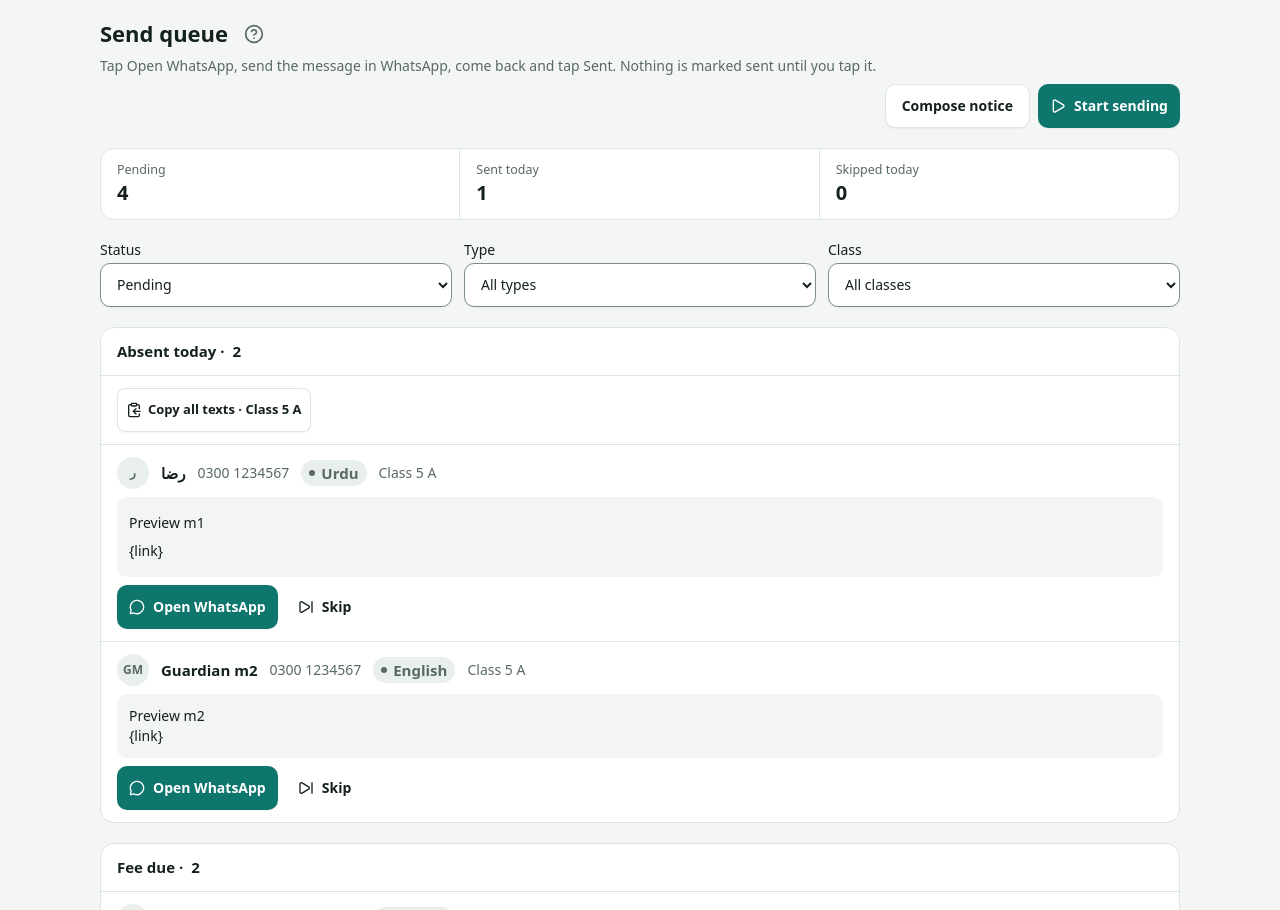
Test: send queue › a blocked popup leaves a link to tap
Expected: the heading "Absent today · 2" is shown, [117, 341, 241, 361]
Click the button with id "msg-primary-m1" at (197, 607), box [117, 585, 278, 629]
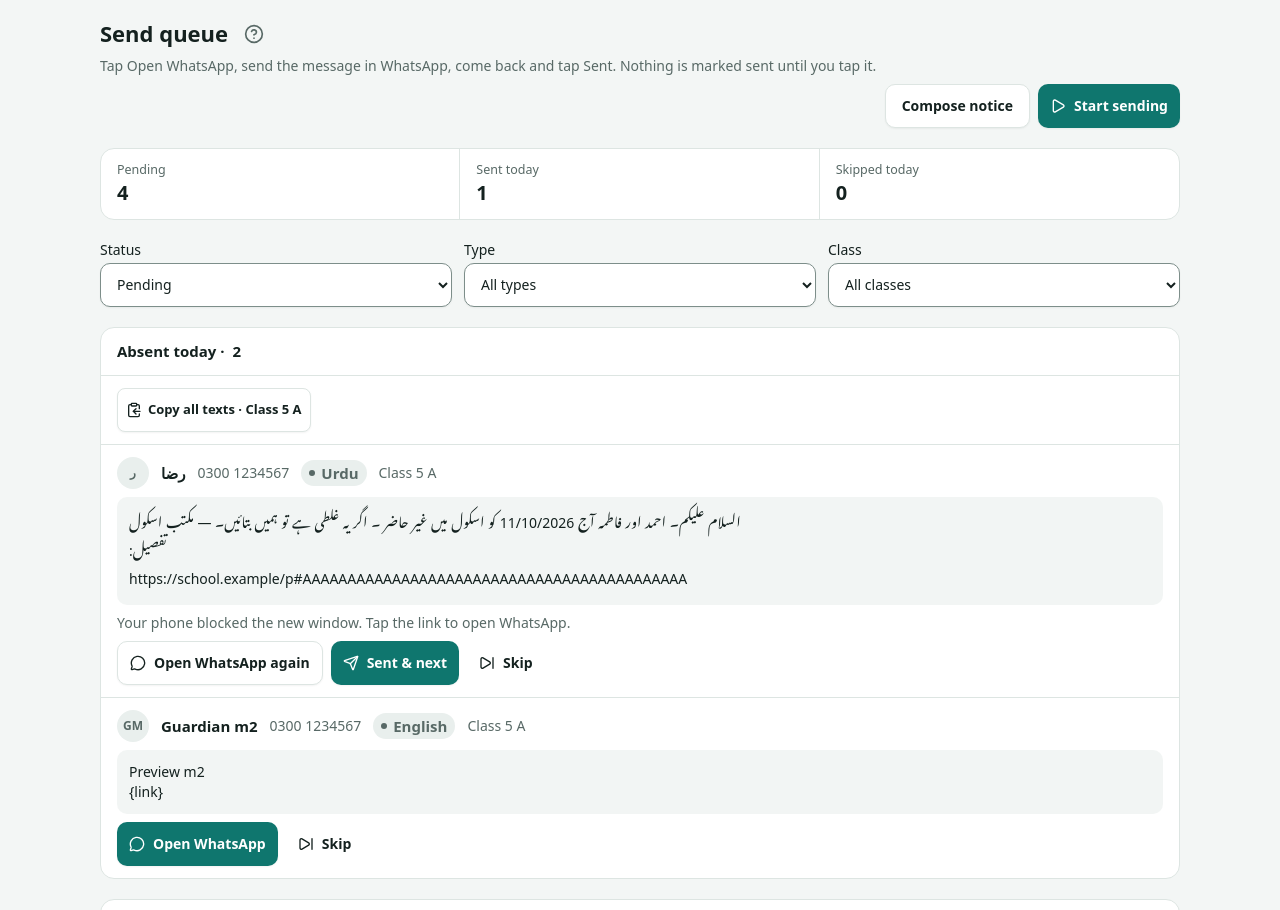
Now the text "Your phone blocked the new window. Tap the link to open WhatsApp." is shown, box [117, 613, 570, 632]
